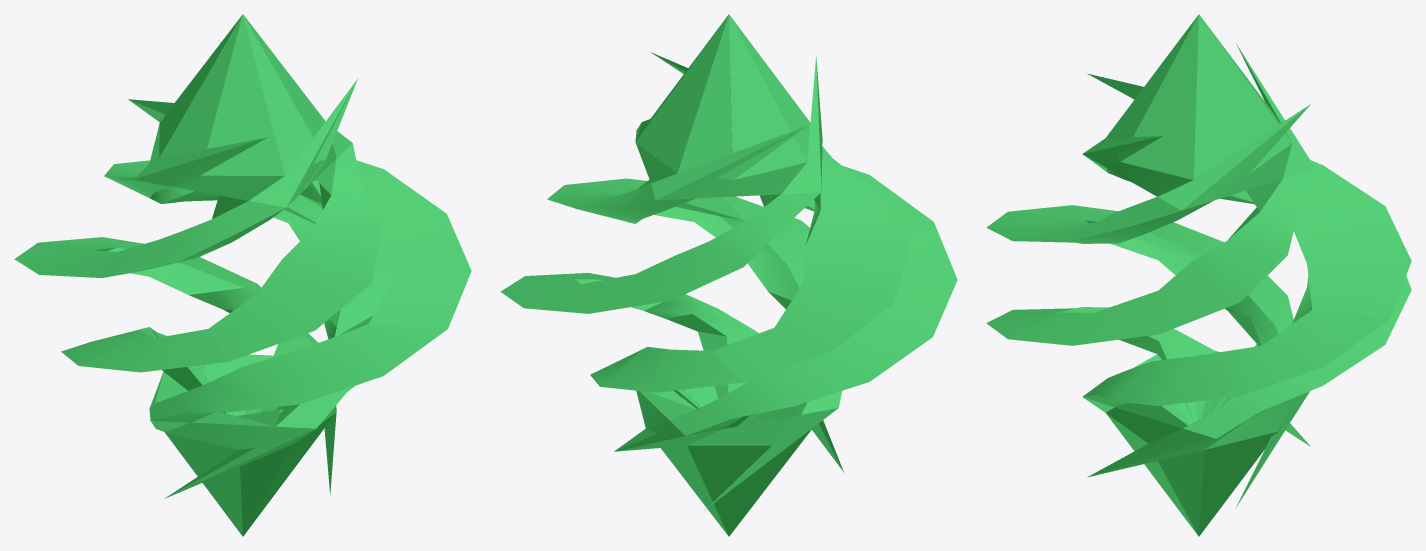
Rendered from greenpawn1.fbx.
The picture shows the model from 3 angles, left to right: view 1: azimuth 30°, elevation 25°; view 2: azimuth 150°, elevation 25°; view 3: azimuth 270°, elevation 25°; orthographic projection.
Visible parts, largest first — view 1: Cube; view 2: Cube; view 3: Cube.
Boxes of the visible parts, box(x1,y1,x2,y2) form: Cube: box(14, 14, 471, 536); Cube: box(500, 14, 957, 536); Cube: box(986, 14, 1411, 536).
Size of the model in its own units: 473 by 641 by 473.
